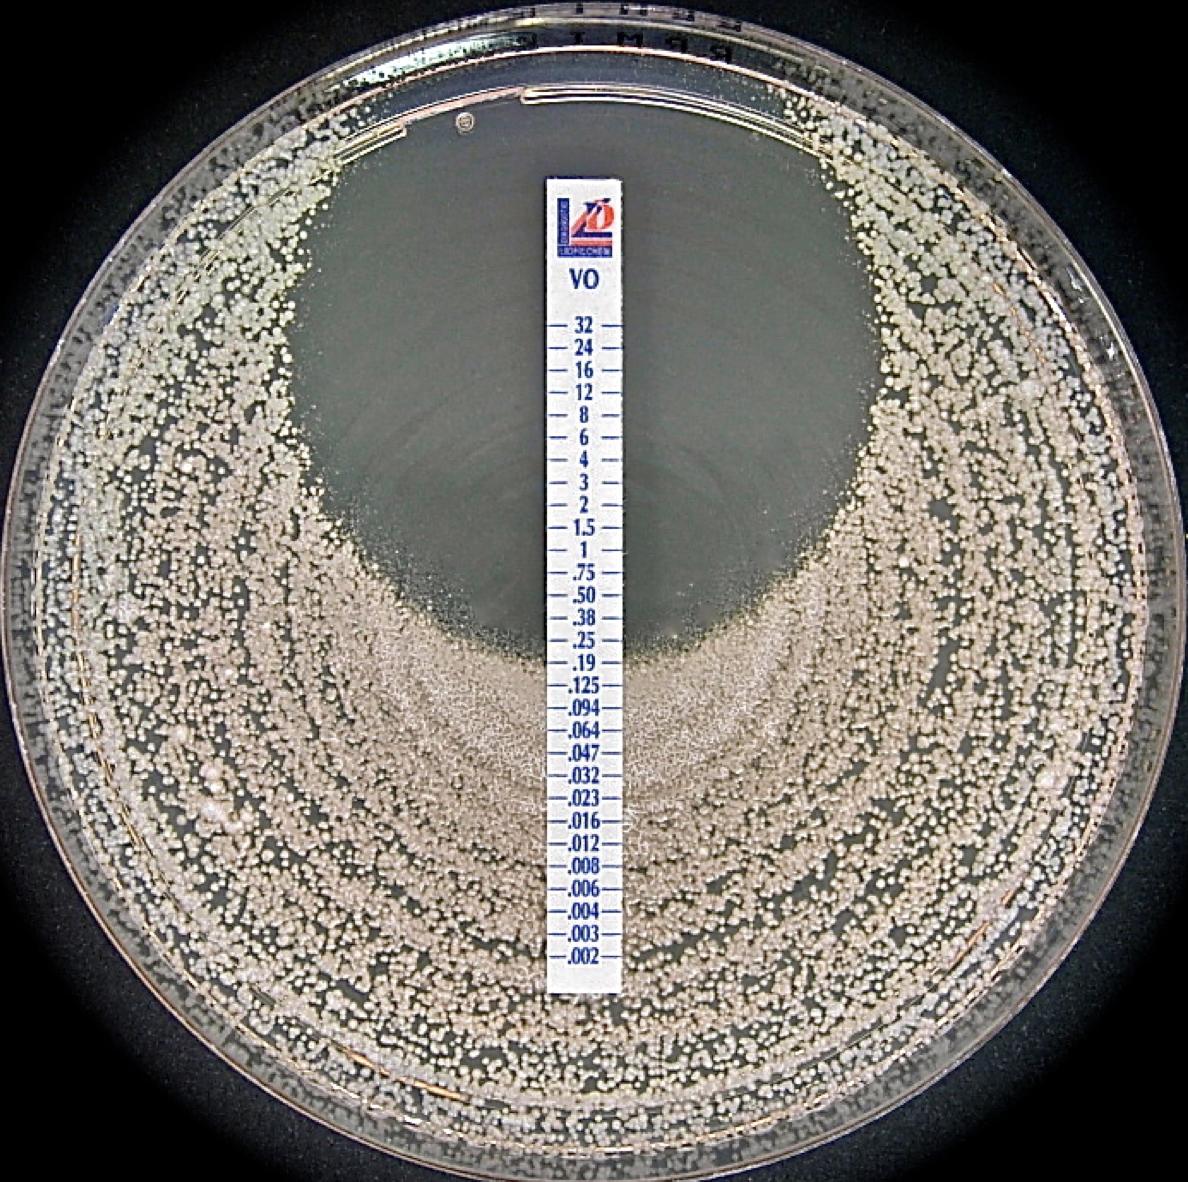line: (545, 178, 624, 994)
zone: (293, 50, 879, 654)
